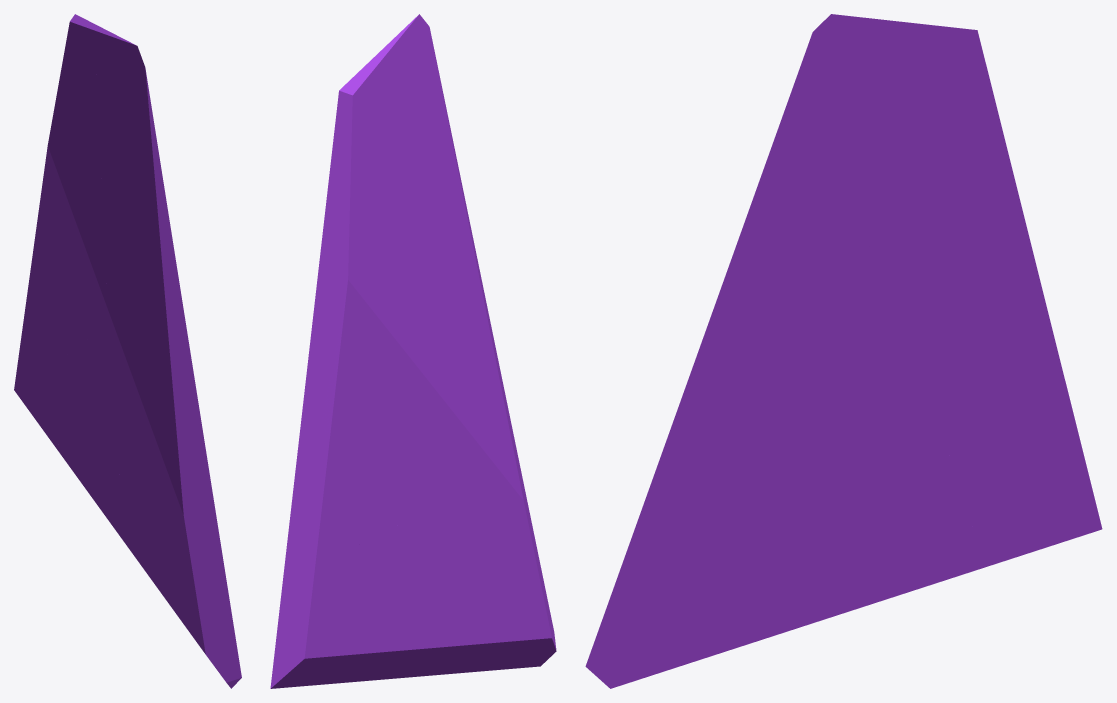
The model's file is Glass_82_9_chunks.fbx.
The picture shows the model from 3 angles, left to right: view 1: azimuth 30°, elevation 25°; view 2: azimuth 150°, elevation 25°; view 3: azimuth 270°, elevation 25°; orthographic projection. The views are drawn at different scales.
Visible parts, largest first — view 1: Glass_82_9_5, Glass_82_9_9, Glass_82_9_4, Glass_82_9_12, Glass_82_9_8, Glass_82_9_2, Glass_82_9_0, Glass_82_9_10, Glass_82_9_6, Glass_82_9_7, Glass_82_9_1; view 2: Glass_82_9_4, Glass_82_9_2, Glass_82_9_5, Glass_82_9_12, Glass_82_9_8, Glass_82_9_6, Glass_82_9_9, Glass_82_9_0, Glass_82_9_10, Glass_82_9_1, Glass_82_9_7, Glass_82_9_3; view 3: Glass_82_9_2, Glass_82_9_6, Glass_82_9_4, Glass_82_9_7, Glass_82_9_8, Glass_82_9_12, Glass_82_9_9, Glass_82_9_1, Glass_82_9_5, Glass_82_9_10, Glass_82_9_3, Glass_82_9_11.
Part boxes in pixels (box(x1,y1,x2,y2)): Glass_82_9_5: box(125, 436, 241, 688); Glass_82_9_9: box(123, 179, 203, 436); Glass_82_9_4: box(34, 14, 100, 259); Glass_82_9_12: box(94, 27, 162, 228); Glass_82_9_8: box(42, 363, 154, 476); Glass_82_9_2: box(14, 245, 96, 393); Glass_82_9_0: box(17, 322, 120, 427); Glass_82_9_10: box(103, 213, 156, 404); Glass_82_9_6: box(51, 441, 164, 597); Glass_82_9_7: box(144, 402, 226, 578); Glass_82_9_1: box(69, 158, 108, 331); Glass_82_9_4: box(304, 60, 398, 434); Glass_82_9_2: box(270, 386, 410, 688); Glass_82_9_5: box(448, 450, 556, 668); Glass_82_9_12: box(371, 14, 453, 269); Glass_82_9_8: box(300, 412, 481, 680); Glass_82_9_6: box(293, 561, 513, 686); Glass_82_9_9: box(429, 139, 505, 410); Glass_82_9_0: box(306, 392, 442, 674); Glass_82_9_10: box(409, 256, 483, 420); Glass_82_9_1: box(376, 208, 427, 427); Glass_82_9_7: box(473, 395, 533, 529); Glass_82_9_3: box(295, 395, 324, 474); Glass_82_9_2: box(869, 318, 1102, 541); Glass_82_9_6: box(658, 508, 1062, 673); Glass_82_9_4: box(891, 23, 1040, 284); Glass_82_9_7: box(622, 392, 818, 568); Glass_82_9_8: box(766, 372, 1054, 536); Glass_82_9_12: box(771, 14, 917, 226); Glass_82_9_9: box(675, 148, 819, 416); Glass_82_9_1: box(842, 146, 952, 393); Glass_82_9_5: box(585, 564, 746, 688); Glass_82_9_10: box(745, 225, 873, 397); Glass_82_9_3: box(948, 283, 1057, 351); Glass_82_9_11: box(807, 193, 850, 256).
Bounding box in the file's own units: 27.2 × 867 × 602.
